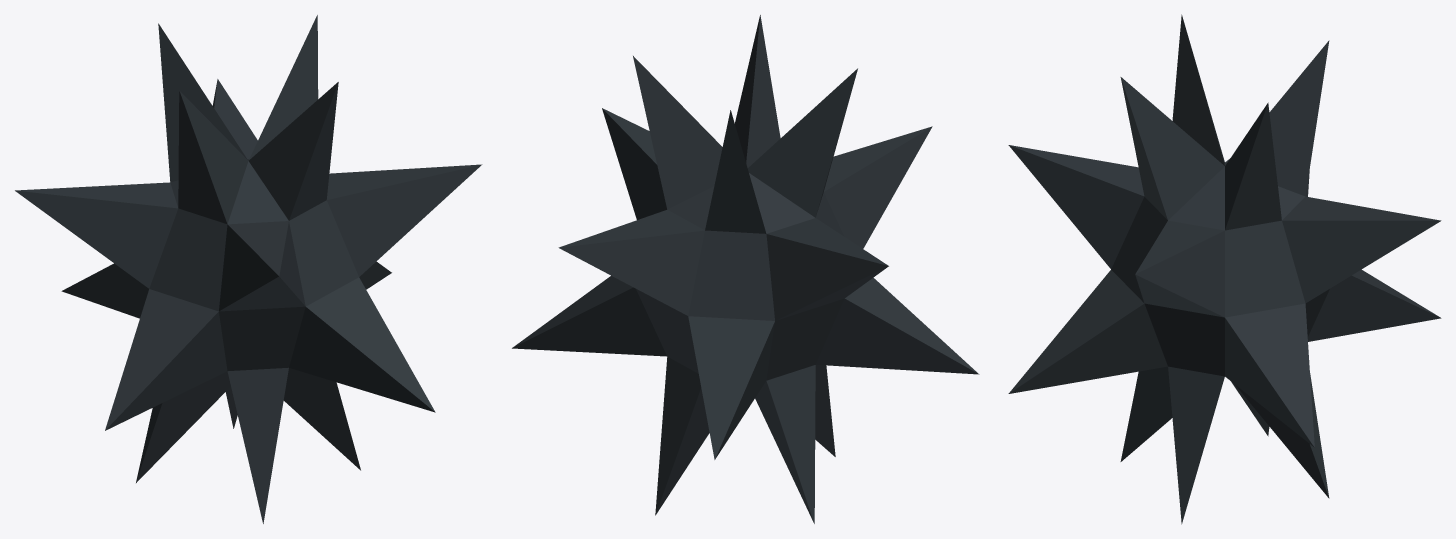
Rendered from Sea Urcin 1.fbx.
The picture shows the model from 3 angles, left to right: view 1: azimuth 30°, elevation 25°; view 2: azimuth 150°, elevation 25°; view 3: azimuth 270°, elevation 25°; orthographic projection.
Visible parts, largest first — view 1: Sphere001; view 2: Sphere001; view 3: Sphere001.
Boxes of the visible parts, box(x1,y1,x2,y2) form: Sphere001: box(15, 15, 482, 523); Sphere001: box(512, 15, 979, 523); Sphere001: box(1008, 14, 1441, 524).
Size of the model in its own units: 38.81 by 41.75 by 38.81.
Materials: 1 (1 with a texture image).
